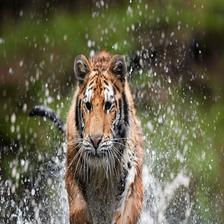tiger: (39, 36, 156, 224)
